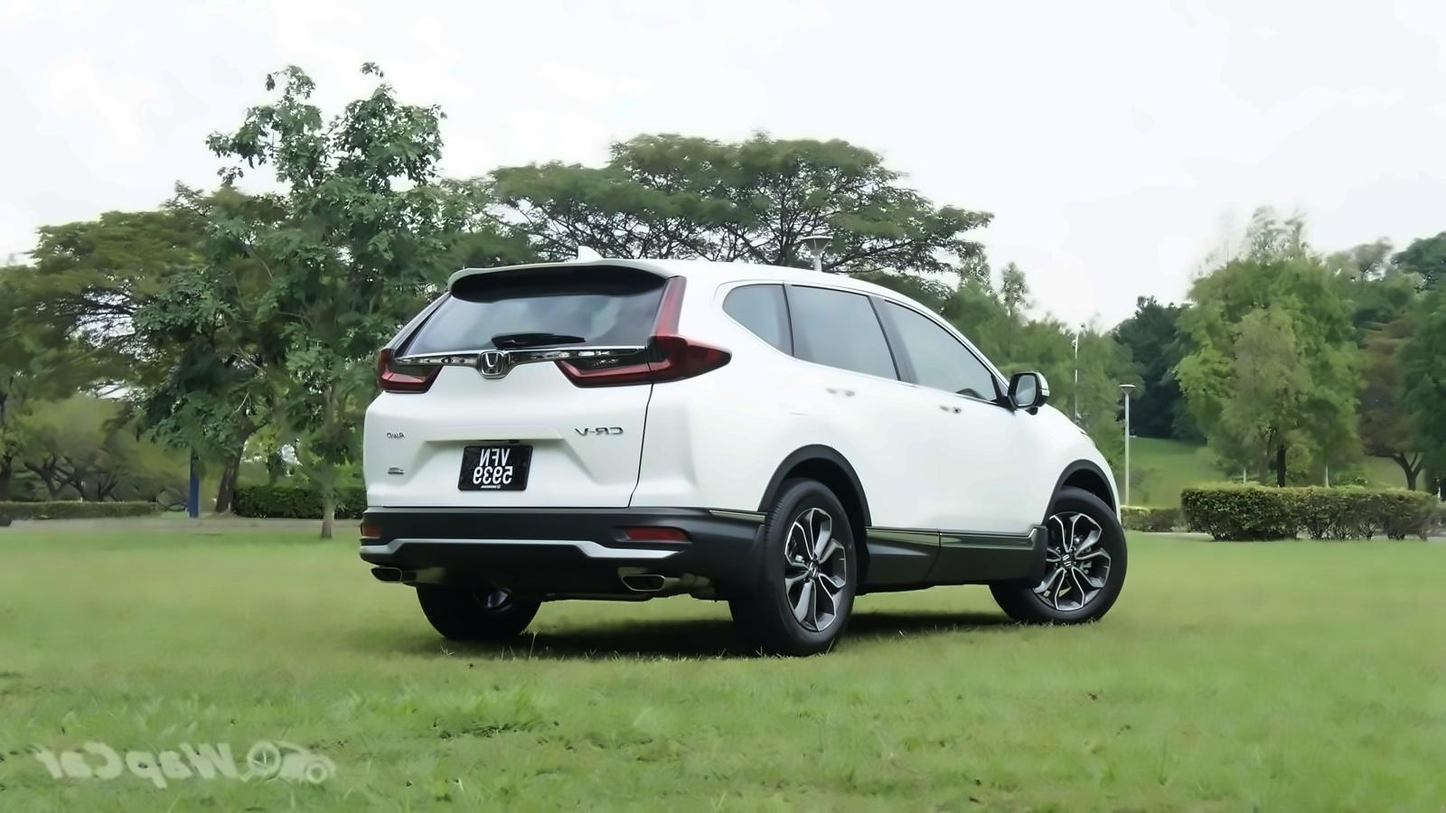Car boot: (357, 250, 668, 522)
Driver-s door - -F-R-: (874, 263, 1029, 568)
Fender - -F-R-: (1010, 389, 1100, 539)
Fender - -R-R-: (678, 279, 848, 540)
Passenger-s door - -R-R-: (776, 254, 934, 571)
Rear bumper: (347, 492, 764, 608)
Rear light - -L-: (369, 343, 442, 395)
Rear light - -R-: (553, 274, 733, 390)
Side bumper - -R-: (854, 496, 1048, 603)
Side mirror - -R-: (1002, 364, 1050, 418)
